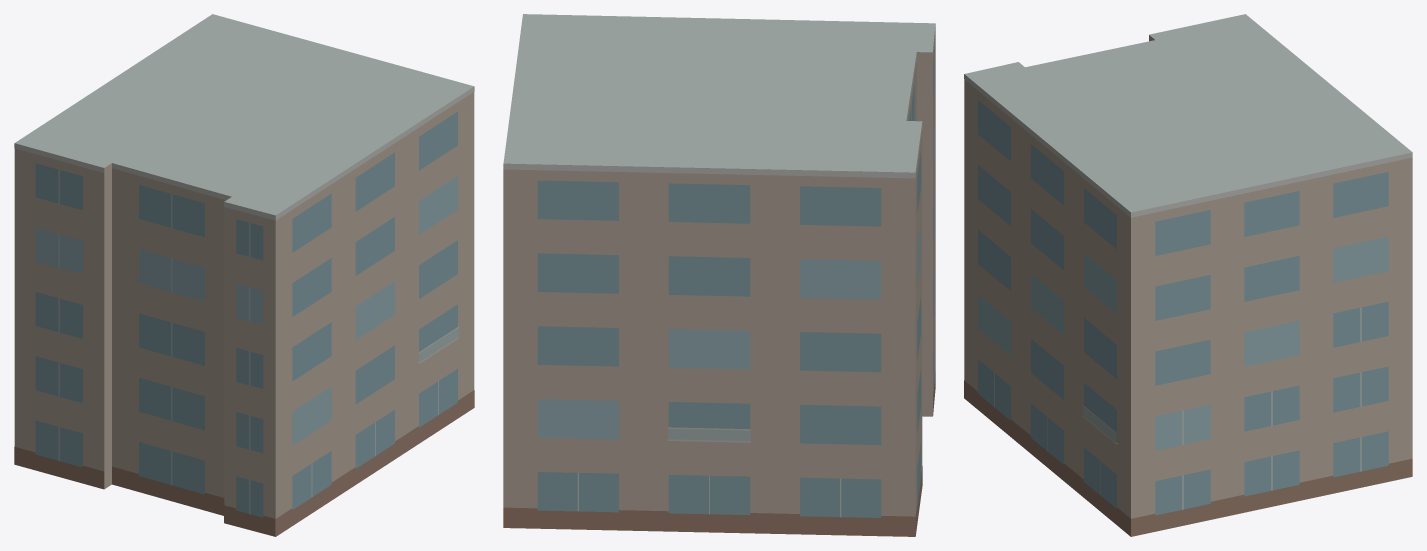
File: survey-upis-32996420.glb
3 renders of one model, left to right at view 1: azimuth 30°, elevation 25°; view 2: azimuth 150°, elevation 25°; view 3: azimuth 270°, elevation 25°, orthographic. The views are drawn at different scales.
Parts seen in each view (by area): view 1: survey-upis-32996420.tmp; view 2: survey-upis-32996420.tmp; view 3: survey-upis-32996420.tmp.
Part boxes in pixels (bbox=[...]): survey-upis-32996420.tmp: bbox=[14, 14, 474, 536]; survey-upis-32996420.tmp: bbox=[503, 14, 935, 536]; survey-upis-32996420.tmp: bbox=[964, 14, 1412, 536].
Bounding box in the file's own units: 20.03 × 15.25 × 19.12.
